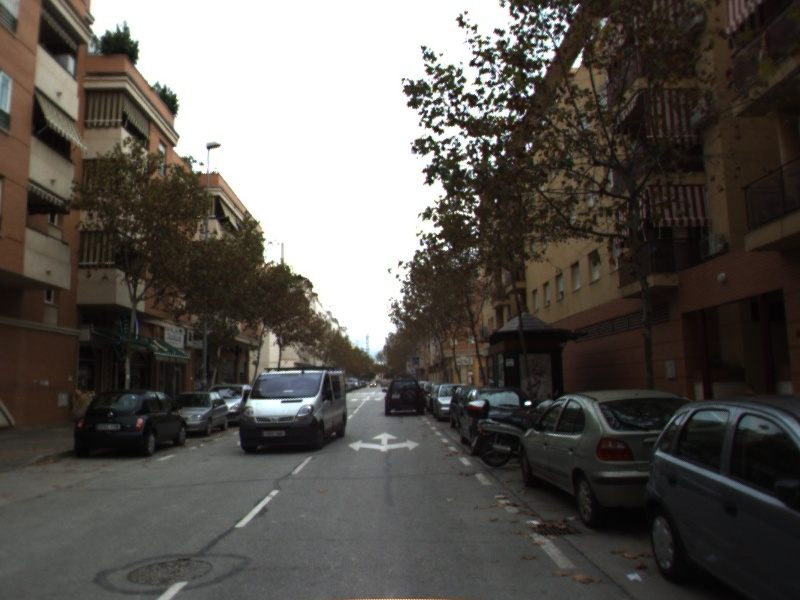STRAIGHT_LEFT_RIGHT: (345, 430, 422, 454)
